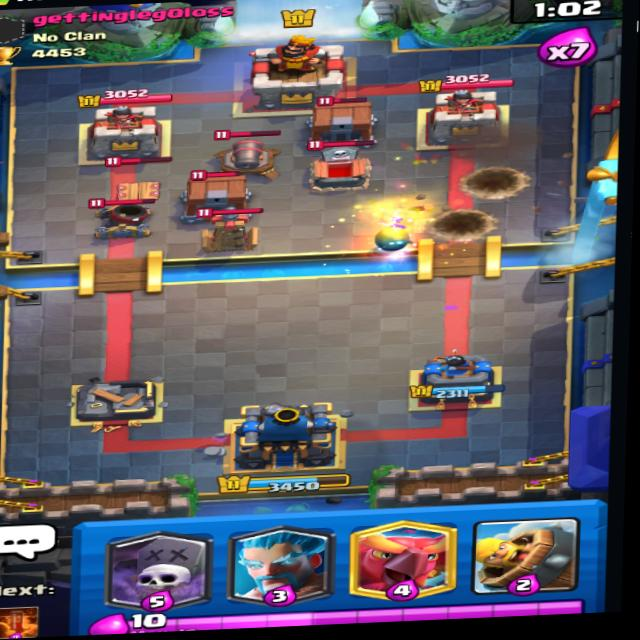cannon: (205, 122, 295, 186)
goblin-cage: (164, 166, 261, 228), (297, 90, 383, 147)
mortar: (82, 189, 158, 245)
tesla: (194, 203, 270, 255)
tesla-closed: (101, 146, 173, 205)
tombstone: (304, 134, 380, 187)
